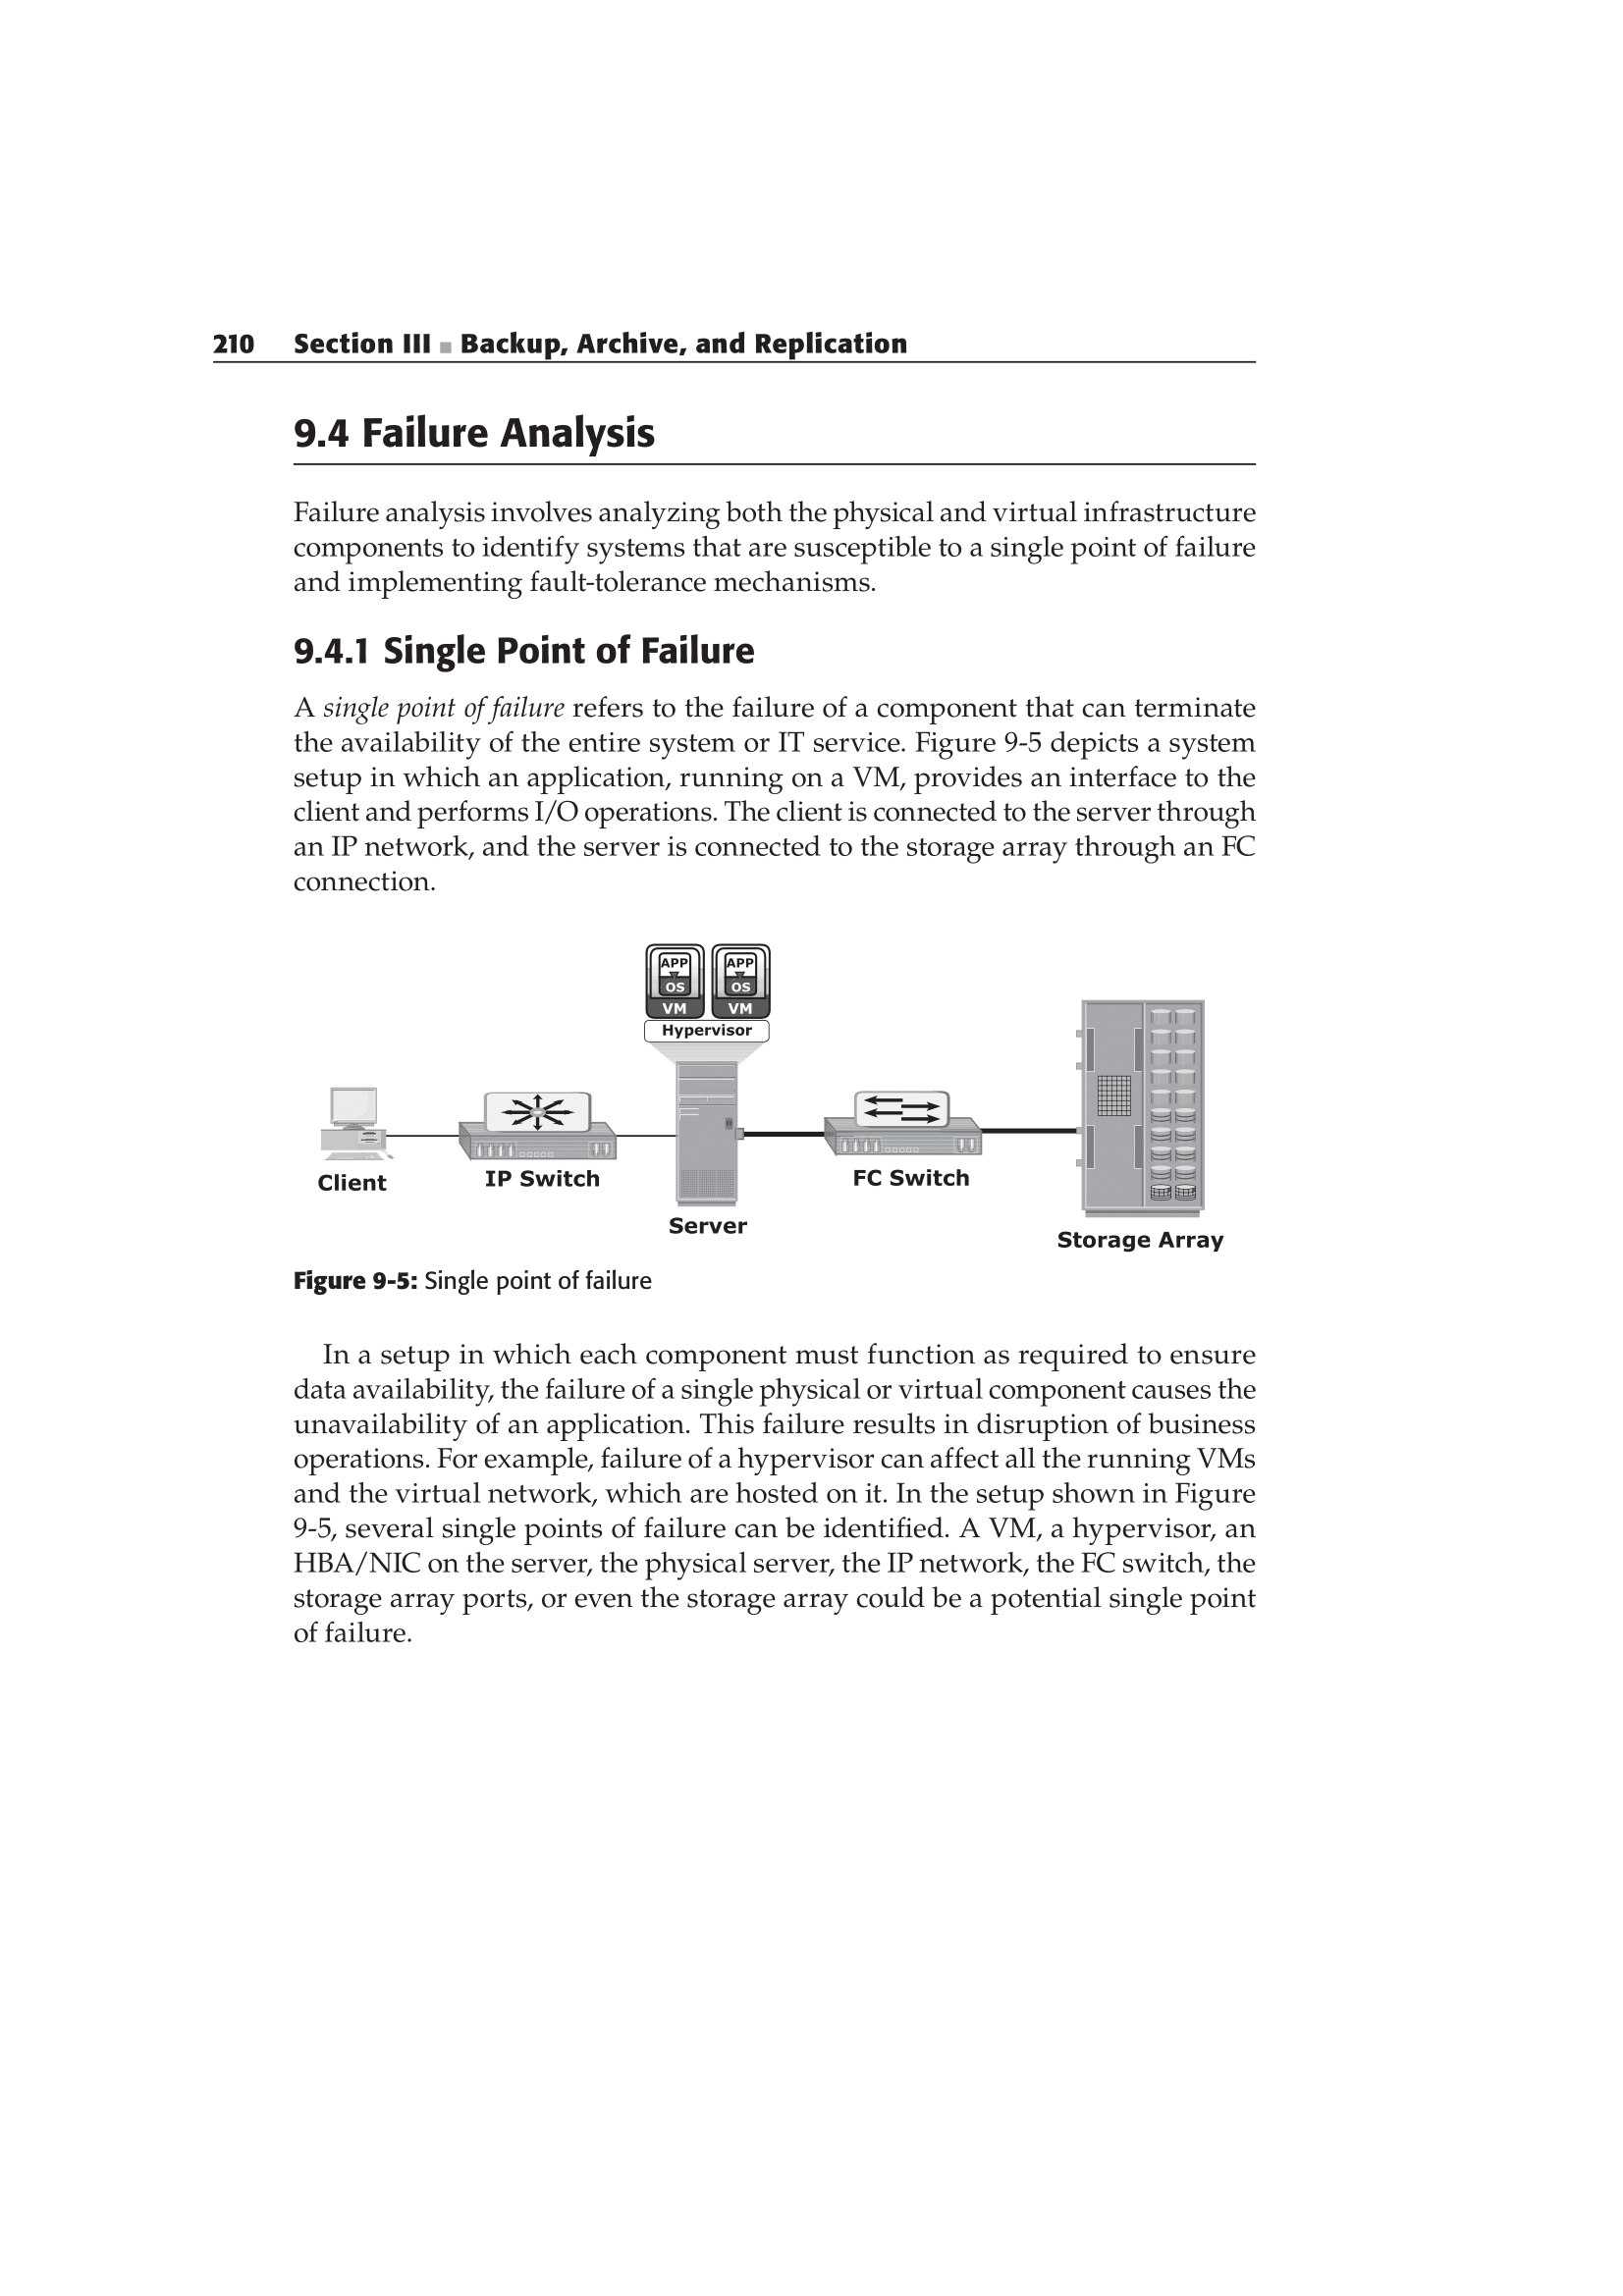Image: (142, 918, 1388, 1257)
Paragraph: (256, 1336, 1375, 1689), (230, 679, 1379, 913), (227, 495, 1291, 616), (160, 293, 1068, 365), (206, 398, 850, 469), (181, 625, 838, 671), (221, 1269, 713, 1315)
